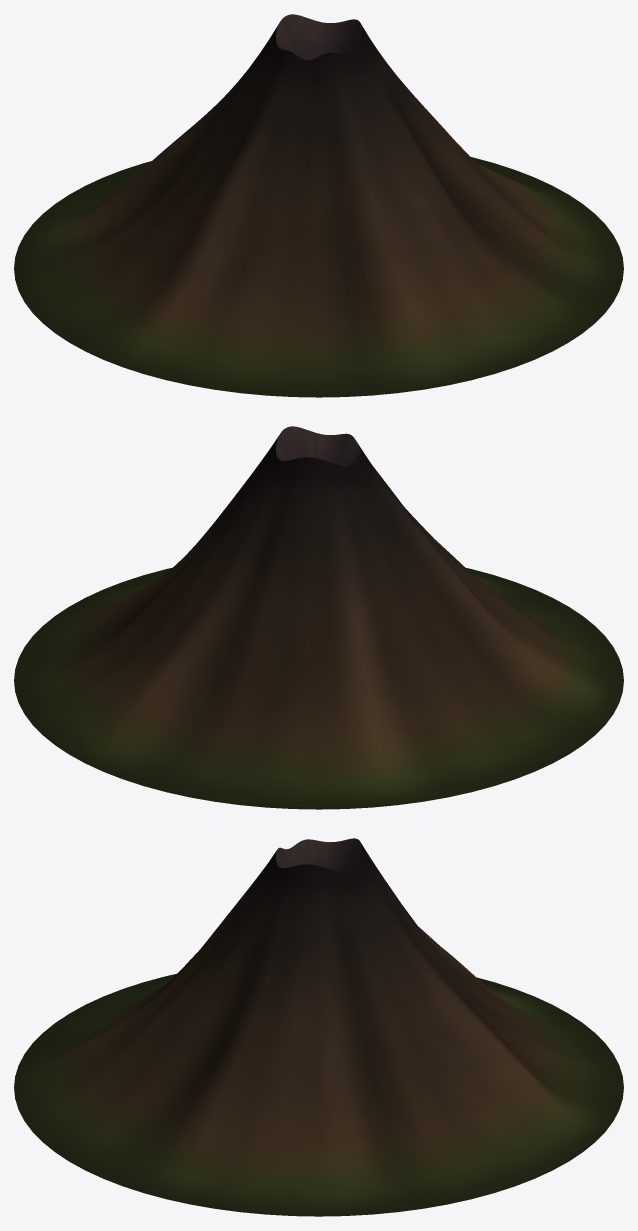
The picture shows the model from 3 angles, top to bottom: view 1: azimuth 30°, elevation 25°; view 2: azimuth 150°, elevation 25°; view 3: azimuth 270°, elevation 25°; orthographic projection.
Parts seen in each view (by area): view 1: cone; view 2: cone; view 3: cone.
Part boxes in pixels (x1,y1,x2,y2): cone: (14, 14, 623, 397); cone: (14, 426, 623, 809); cone: (14, 838, 623, 1216).
Size of the model in its own units: 1.84 by 0.802 by 1.84.
